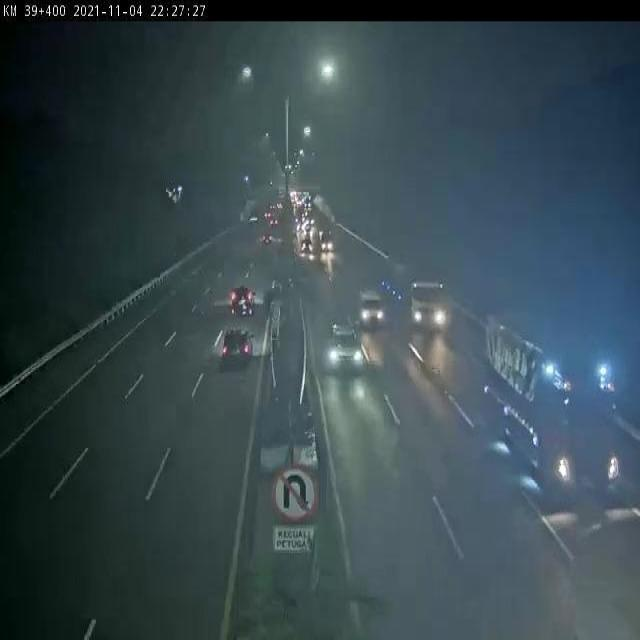Bus: (474, 306, 635, 511)
Car: (208, 319, 258, 371), (325, 322, 366, 377), (230, 285, 256, 317), (261, 232, 275, 245)
Truck: (378, 262, 452, 337)
Van: (357, 282, 385, 330)
